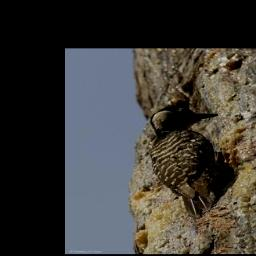Woodpecker: (149, 104, 236, 221)
